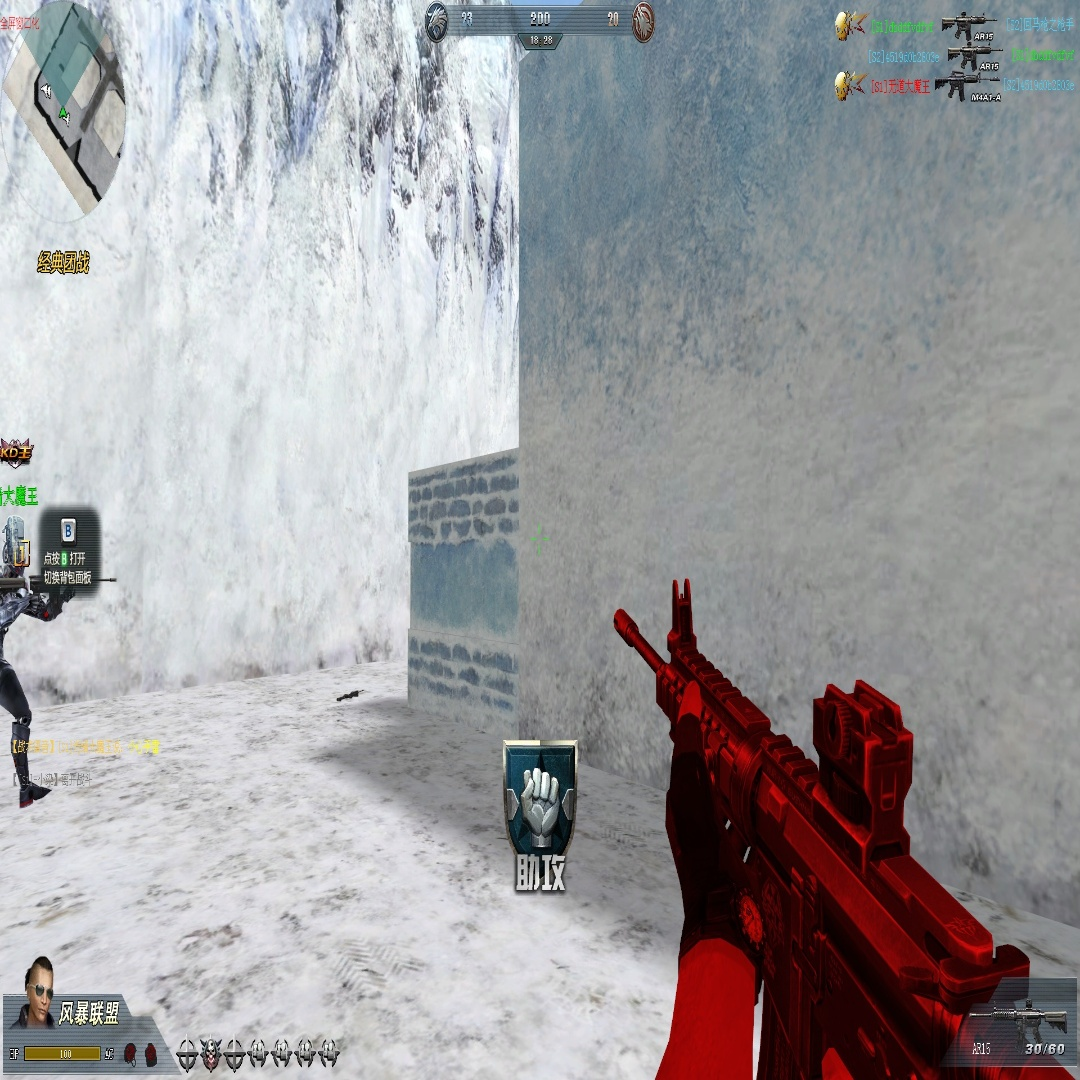t: (1, 542, 65, 808)
